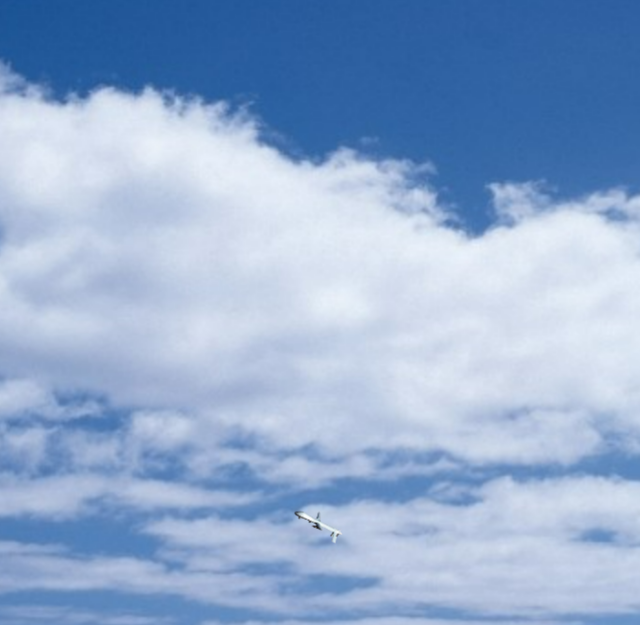military drone: (294, 510, 342, 543)
